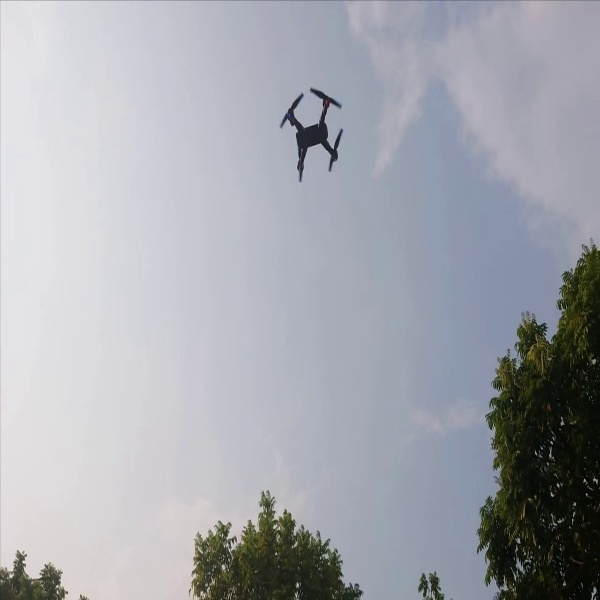drone: (274, 82, 350, 184)
